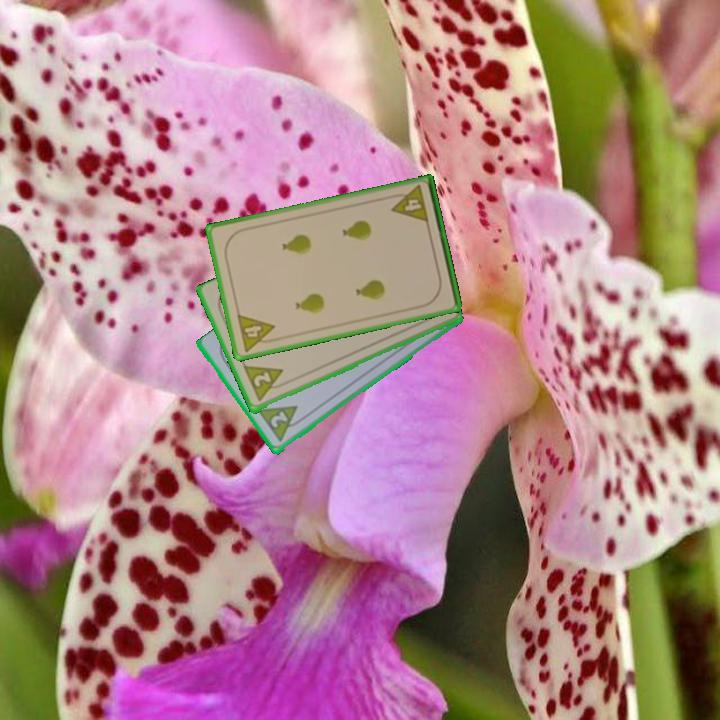2p: (240, 362, 291, 405), (266, 408, 291, 431)
4p: (233, 310, 280, 355), (386, 182, 431, 226)
